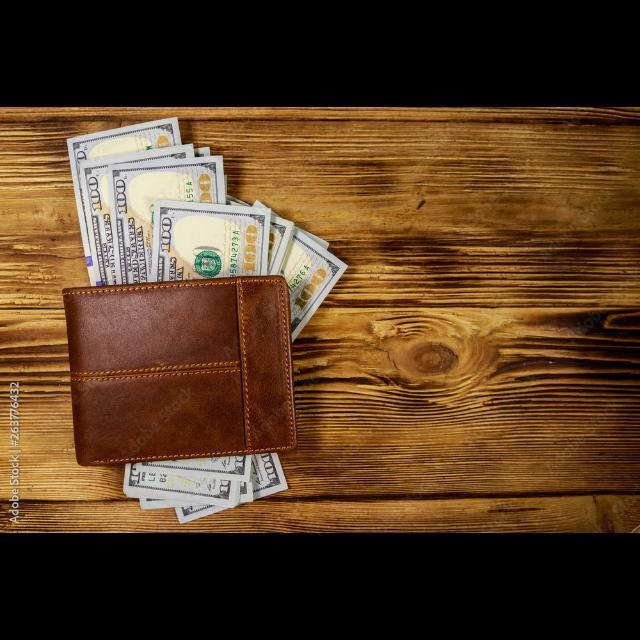wallet: (51, 266, 323, 469)
